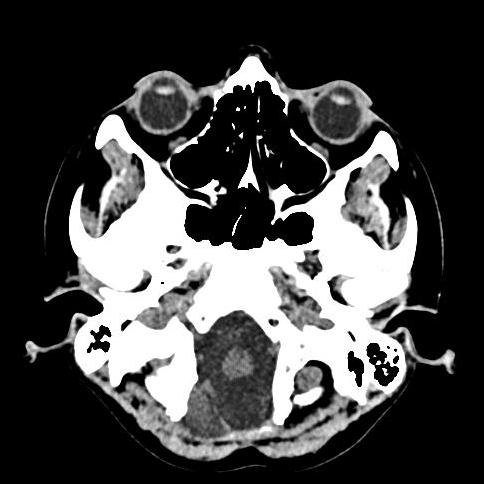Normal_Brain: (35, 21, 484, 474)
